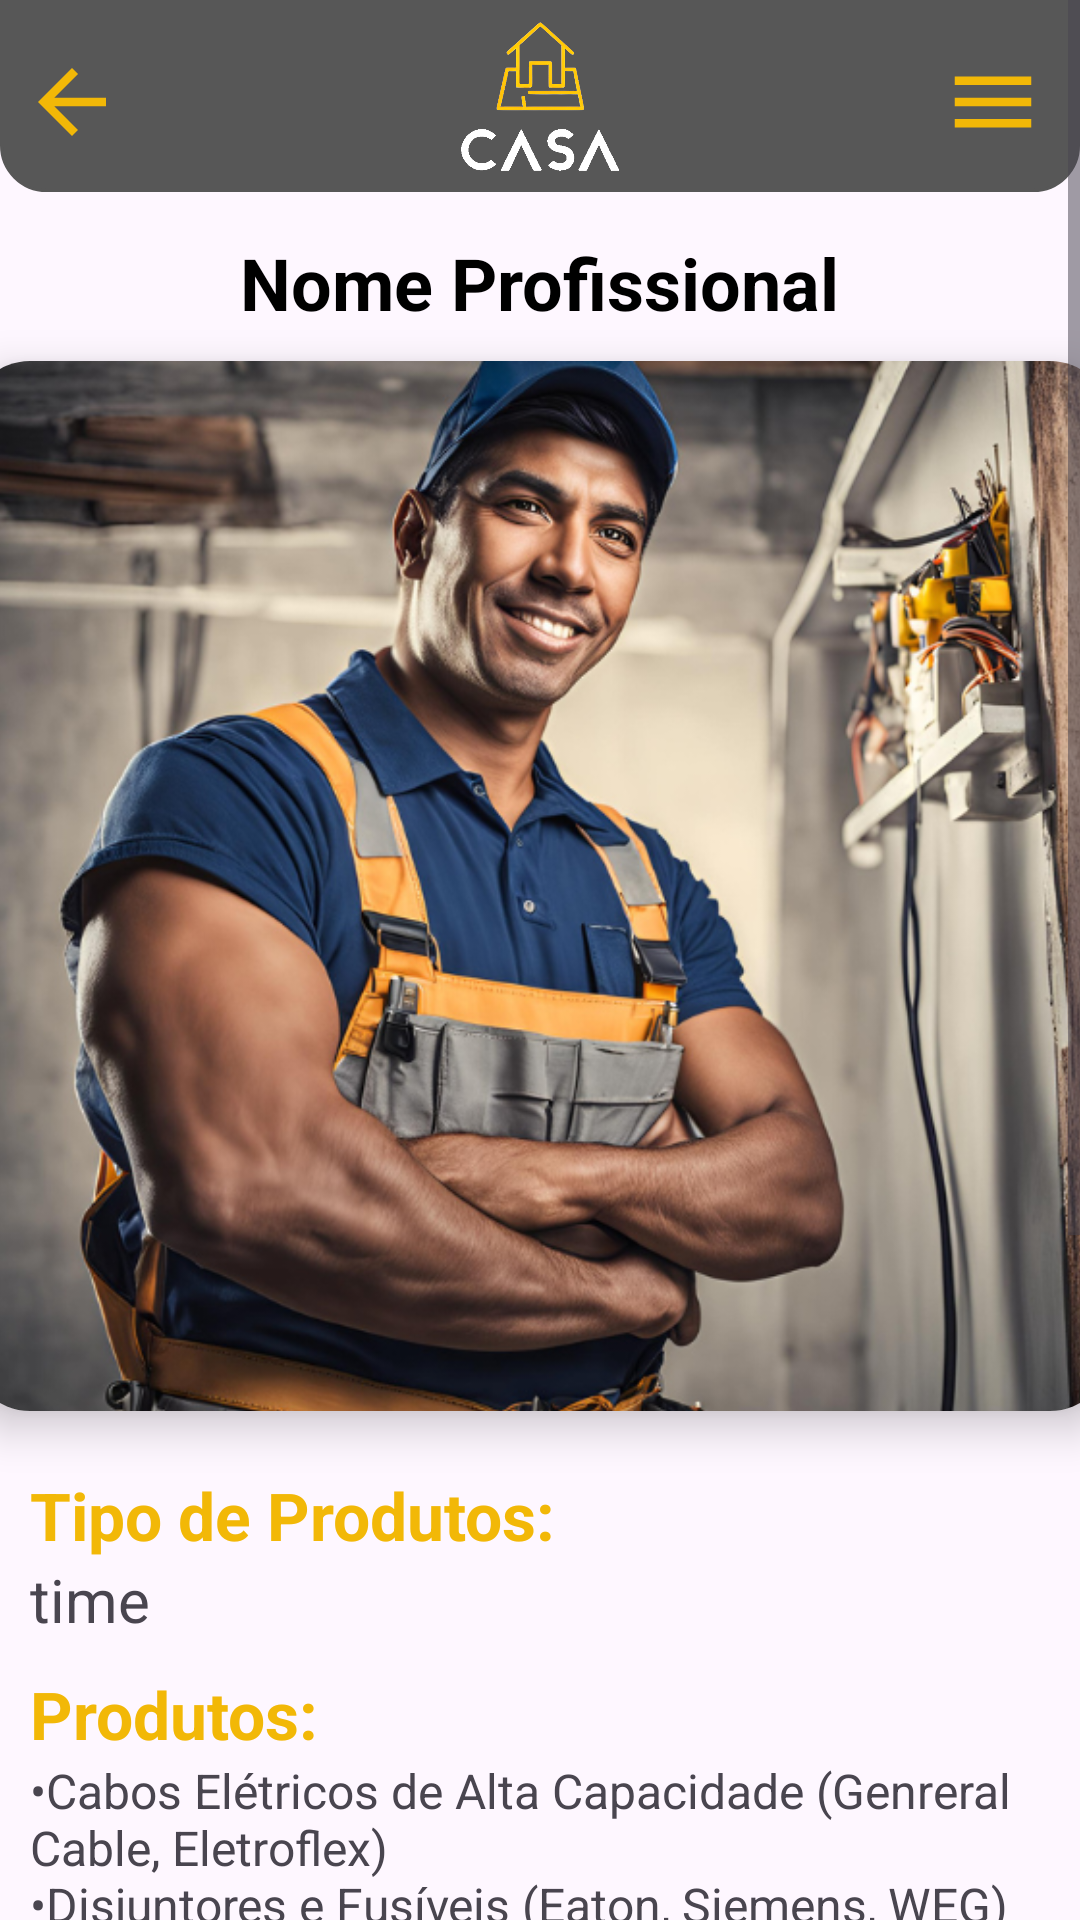

Named icons in this screenshot (1080x1920) and their centers, (x=x, y=y):
arrow back: (x=72, y=102)
menu: (x=993, y=102)
